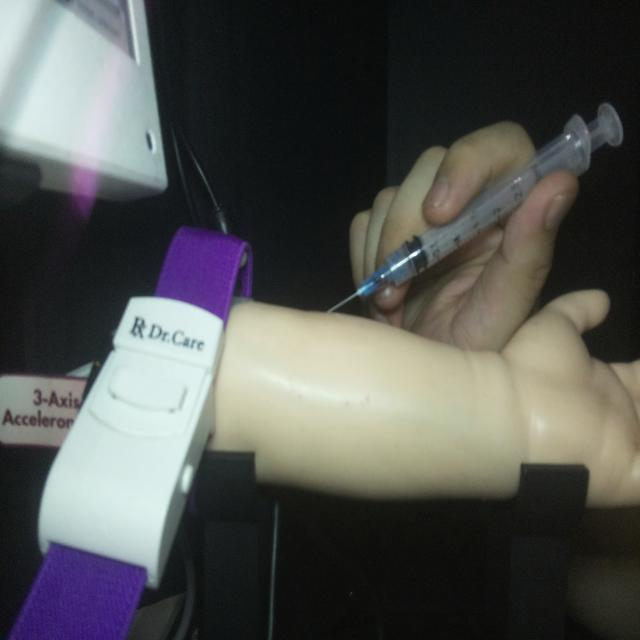21 degrees: (324, 98, 624, 316)
